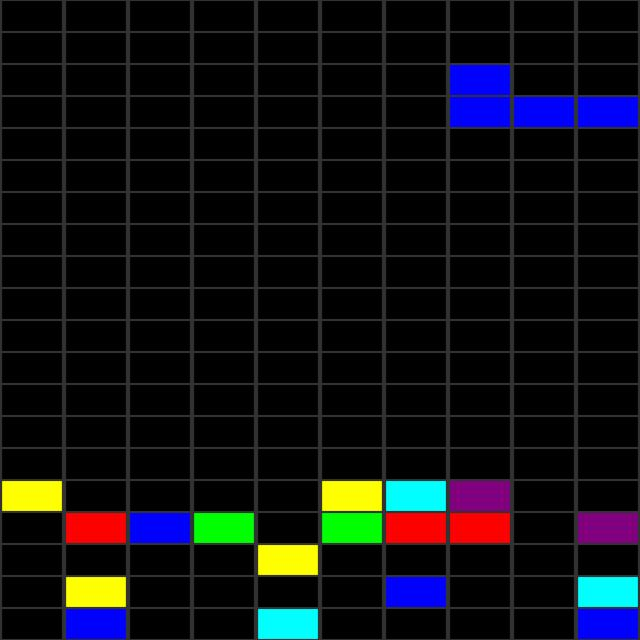Tetrimino_S: (450, 64, 638, 127)
